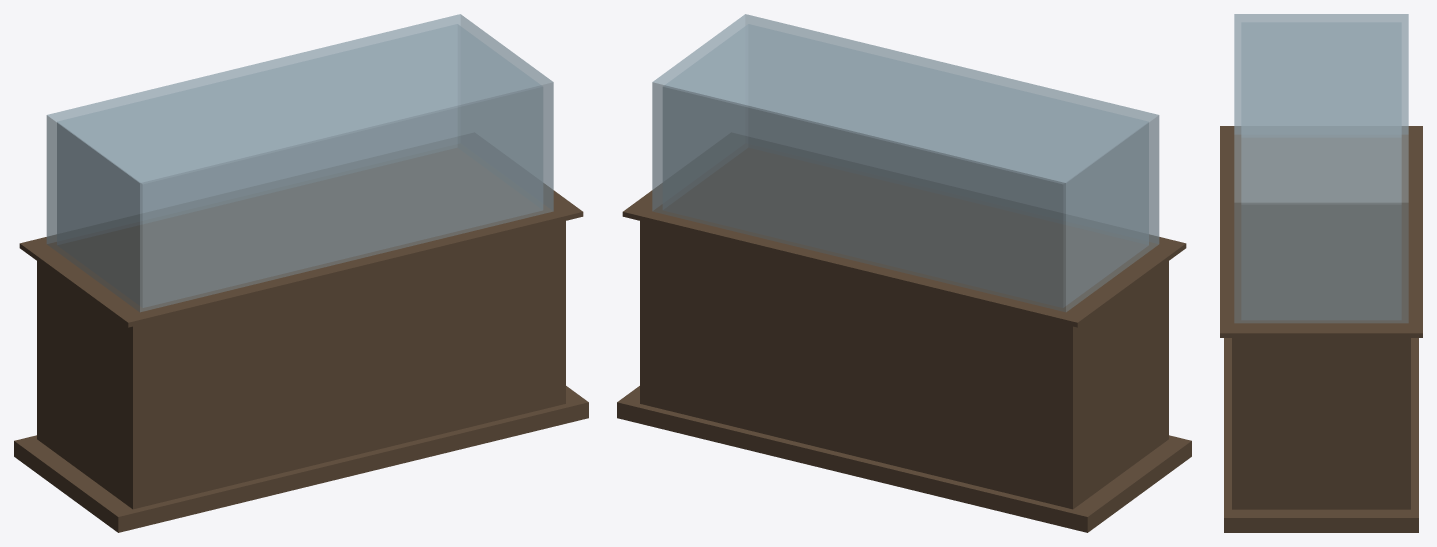
The model's file is Mesa Mediana Exposicion 1.fbx.
The picture shows the model from 3 angles, left to right: view 1: azimuth 30°, elevation 25°; view 2: azimuth 150°, elevation 25°; view 3: azimuth 270°, elevation 25°; orthographic projection. The views are drawn at different scales.
Parts seen in each view (by area): view 1: base_1, Vidrio_2; view 2: base_1, Vidrio_2; view 3: base_1, Vidrio_2.
Boxes of the visible parts, <box> form: base_1: <box>14,147,588,532</box>; Vidrio_2: <box>46,14,553,312</box>; base_1: <box>617,147,1191,532</box>; Vidrio_2: <box>652,14,1159,312</box>; base_1: <box>1220,126,1422,532</box>; Vidrio_2: <box>1234,14,1408,323</box>.
Bounding box in the file's own units: 2.85 × 1.96 × 1.14.
